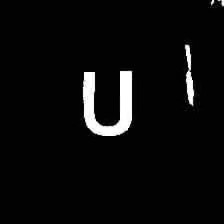LTR_U: (75, 64, 140, 139)
